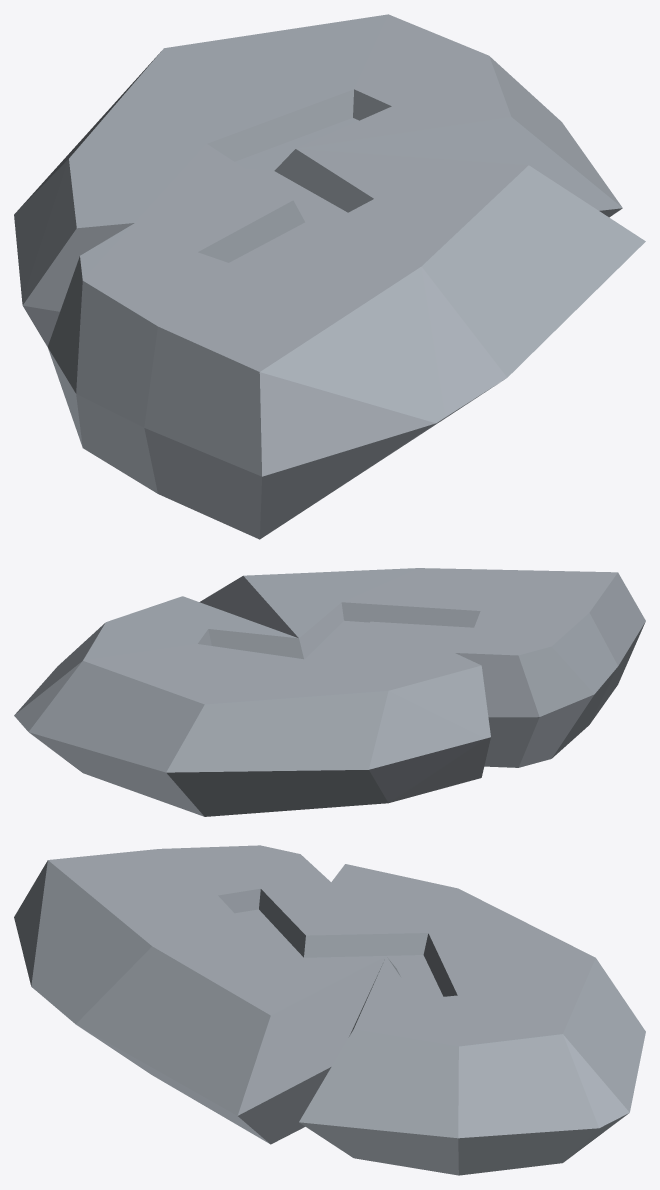
The model's file is Rune_02.FBX.
3 renders of one model, top to bottom at view 1: azimuth 30°, elevation 25°; view 2: azimuth 150°, elevation 25°; view 3: azimuth 270°, elevation 25°, orthographic. The views are drawn at different scales.
Parts seen in each view (by area): view 1: Rune_02; view 2: Rune_02; view 3: Rune_02.
Boxes of the visible parts, left/top/right/bottom form: Rune_02: left=14, top=14, right=645, bottom=539; Rune_02: left=14, top=568, right=645, bottom=816; Rune_02: left=14, top=845, right=645, bottom=1175.
Size of the model in its own units: 38.61 by 9.63 by 42.68.
